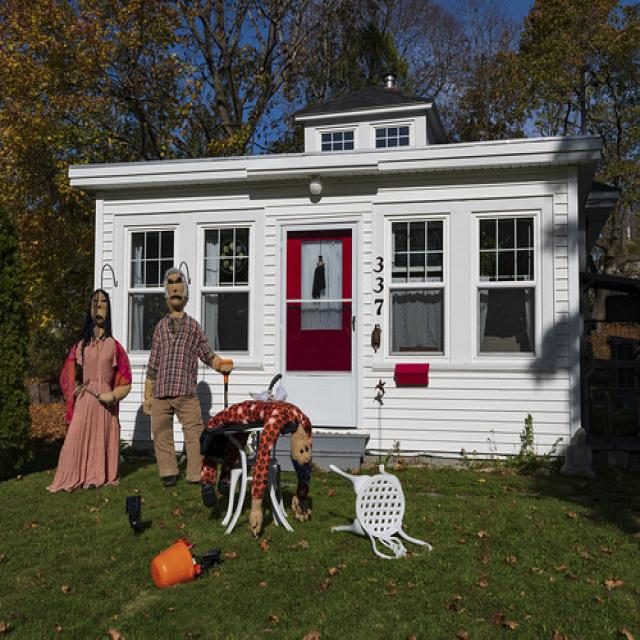Normal_building: (61, 90, 603, 485)
